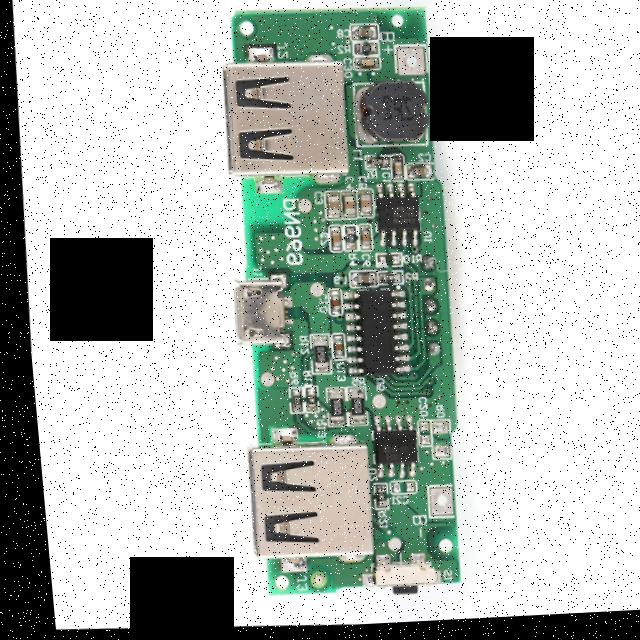2235: (357, 559, 424, 604)
IC: (338, 291, 399, 381), (368, 189, 417, 248), (360, 425, 414, 477)
capacitor 1V5: (318, 195, 337, 222), (403, 167, 428, 184), (352, 194, 369, 216), (322, 293, 337, 317), (338, 194, 351, 221), (350, 27, 375, 41), (345, 274, 368, 289), (323, 231, 338, 253), (352, 61, 377, 74), (325, 339, 338, 362), (389, 164, 399, 184), (353, 233, 365, 249)
connector -5v-: (224, 437, 370, 569), (212, 54, 353, 186), (221, 271, 291, 355)
inductor F1: (347, 81, 430, 152)
resistor IR1: (315, 395, 336, 424), (305, 342, 322, 375), (337, 399, 358, 422), (362, 487, 381, 512), (338, 228, 352, 253), (280, 394, 295, 413), (353, 46, 374, 58), (364, 160, 385, 172), (375, 276, 395, 288), (296, 396, 309, 414)
